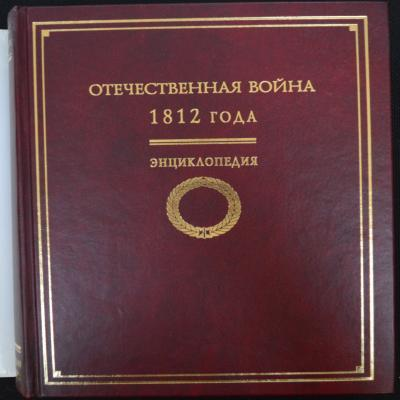printed_products: (0, 4, 400, 400)
